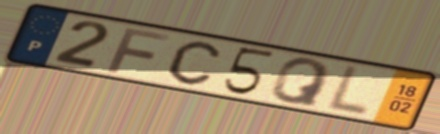2: (51, 20, 115, 71)
5: (221, 45, 280, 96)
C: (166, 40, 223, 88)
F: (104, 25, 175, 75)
L: (322, 63, 373, 120)
Q: (268, 57, 333, 109)
